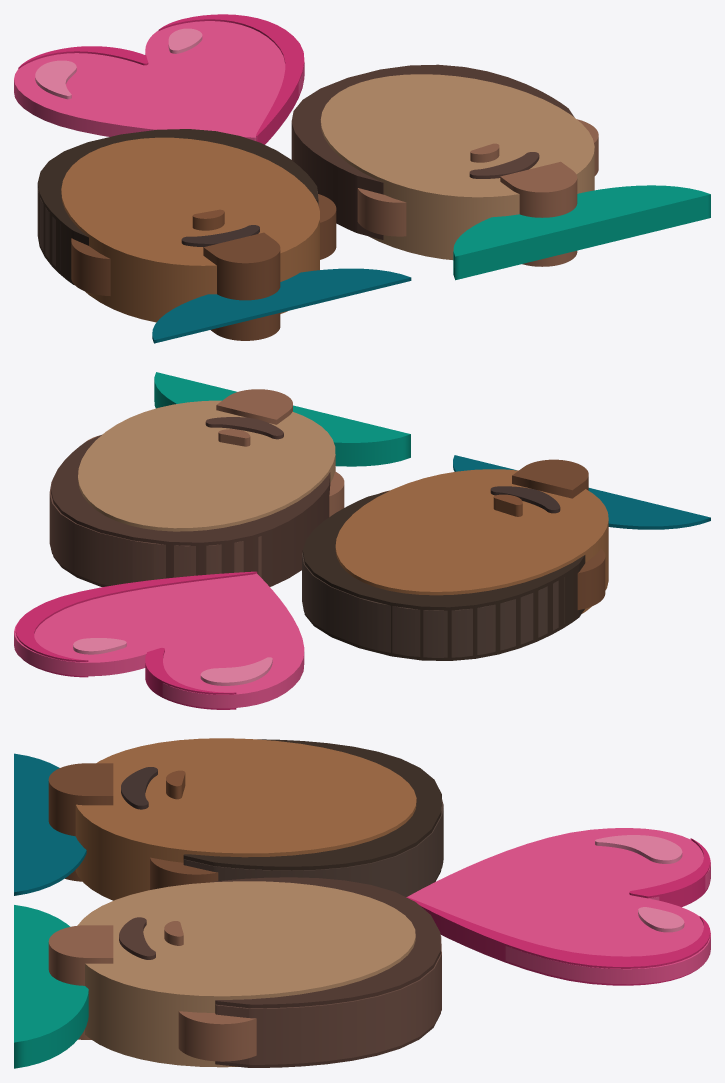
File: emoji_u1f468_1f3fe_200d_2764_200d_1f468_1f3fd.glb
3 views of the same model, one above another, from view 1: azimuth 30°, elevation 25°; view 2: azimuth 150°, elevation 25°; view 3: azimuth 270°, elevation 25° (orthographic). The views are drawn at different scales.
Parts seen in each view (by area): view 1: emoji_u1f468_1f3fe_200d_2764_200d_1f468_1f3fd; view 2: emoji_u1f468_1f3fe_200d_2764_200d_1f468_1f3fd; view 3: emoji_u1f468_1f3fe_200d_2764_200d_1f468_1f3fd.
Part boxes in pixels (x1,y1,x2,y2): emoji_u1f468_1f3fe_200d_2764_200d_1f468_1f3fd: (14,14,710,343); emoji_u1f468_1f3fe_200d_2764_200d_1f468_1f3fd: (14,372,710,709); emoji_u1f468_1f3fe_200d_2764_200d_1f468_1f3fd: (14,738,710,1068).
Size of the model in its own units: 0.0345 by 0.005 by 0.0338.
